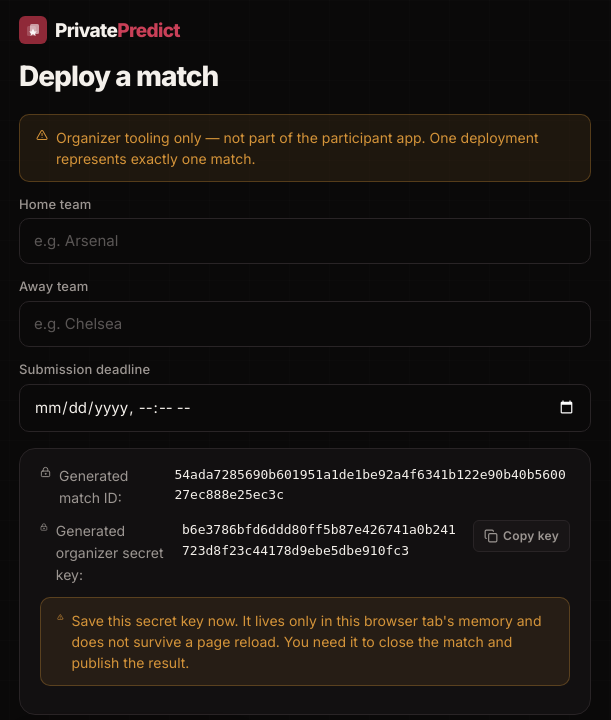
Test: DeployApp › shows a clear error when the wallet connection fails, without pretending success
In the field labelled "Home team": (305,241) [19, 218, 591, 264], type "Team A"
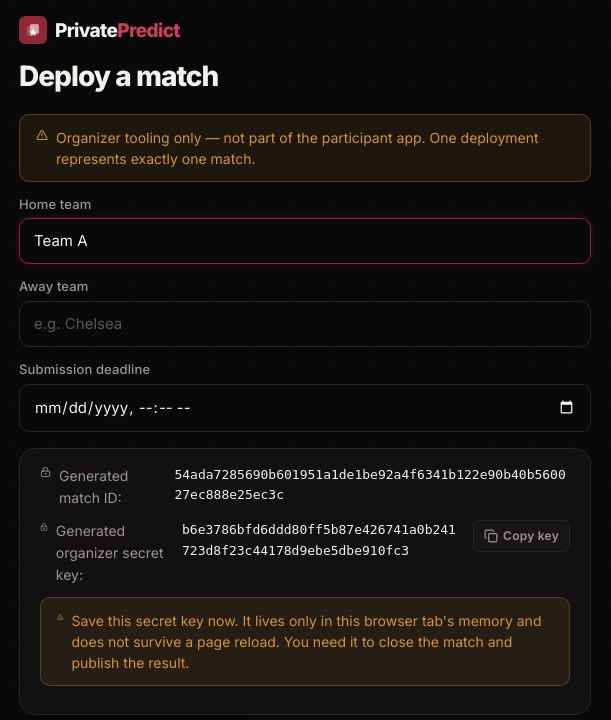
In the field labelled "Away team": (305,324) [19, 301, 591, 347], type "Team B"
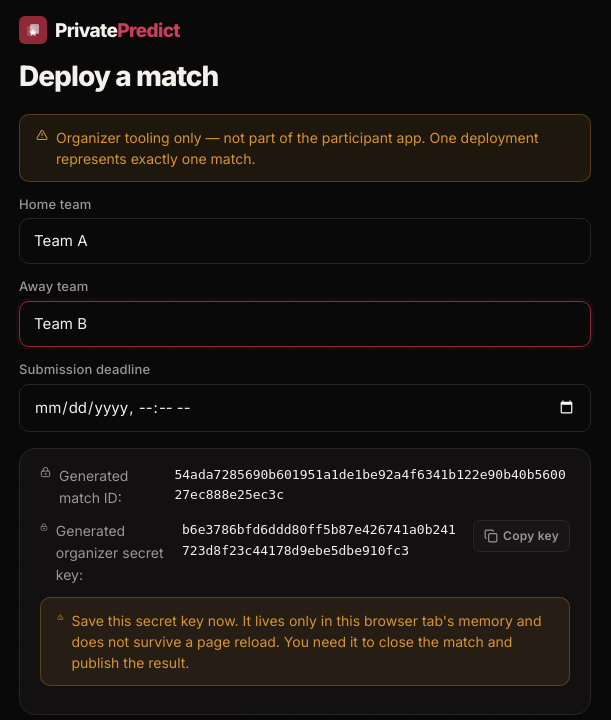
In the field labelled "Submission deadline": (305,408) [19, 384, 591, 432], type "2030-01-01T00:00"
(page scrolled)
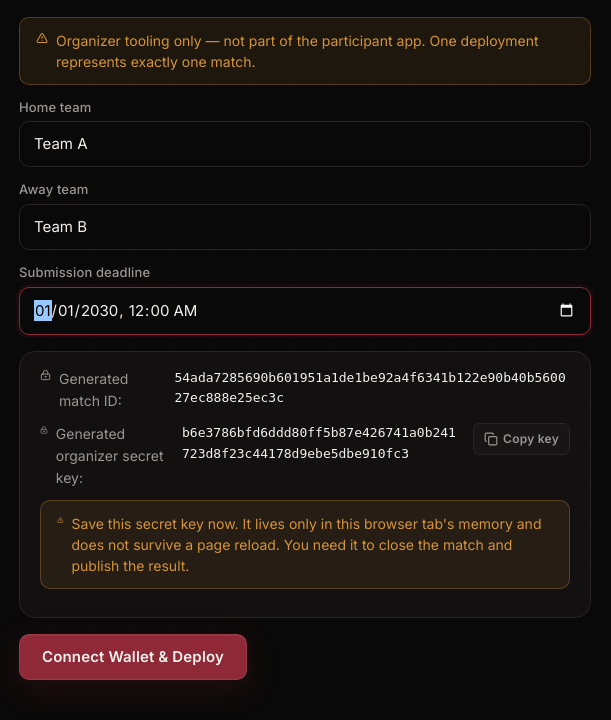
Click the button "Connect Wallet & Deploy": (133,657) [19, 634, 247, 680]
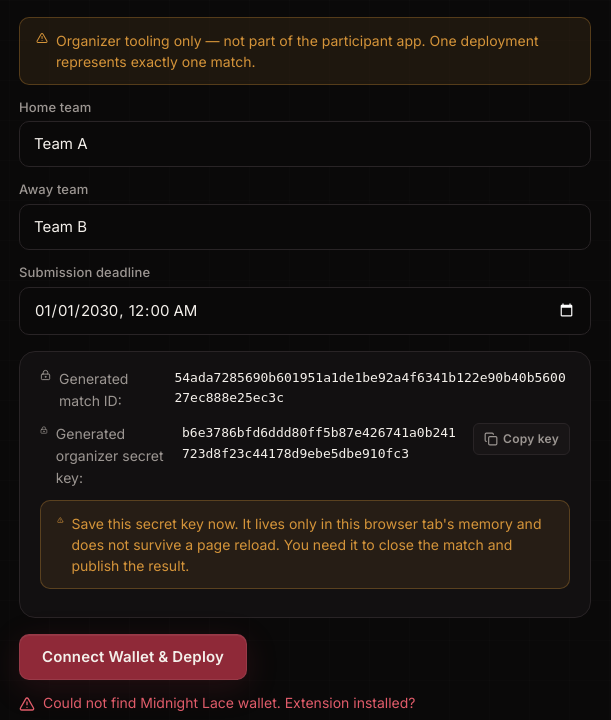
Now the message shows "Could not find Midnight Lace wallet", box [43, 694, 416, 711]
